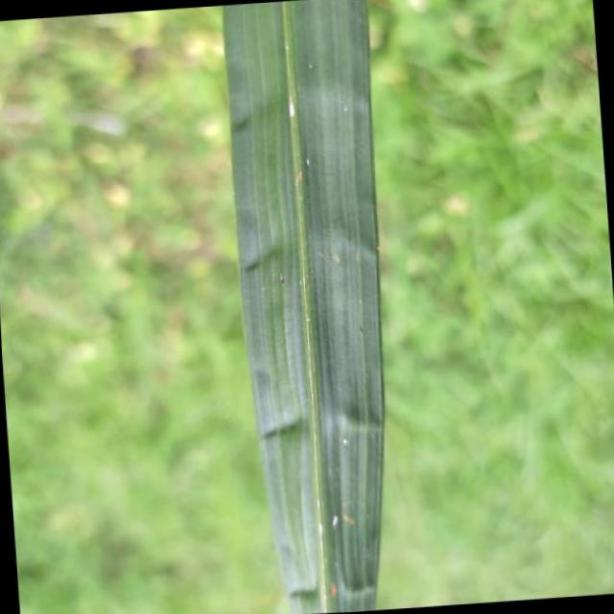Boron: (222, 0, 381, 614)
